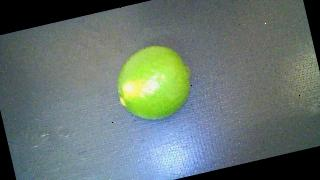EXPORTACION: (110, 39, 199, 127)
